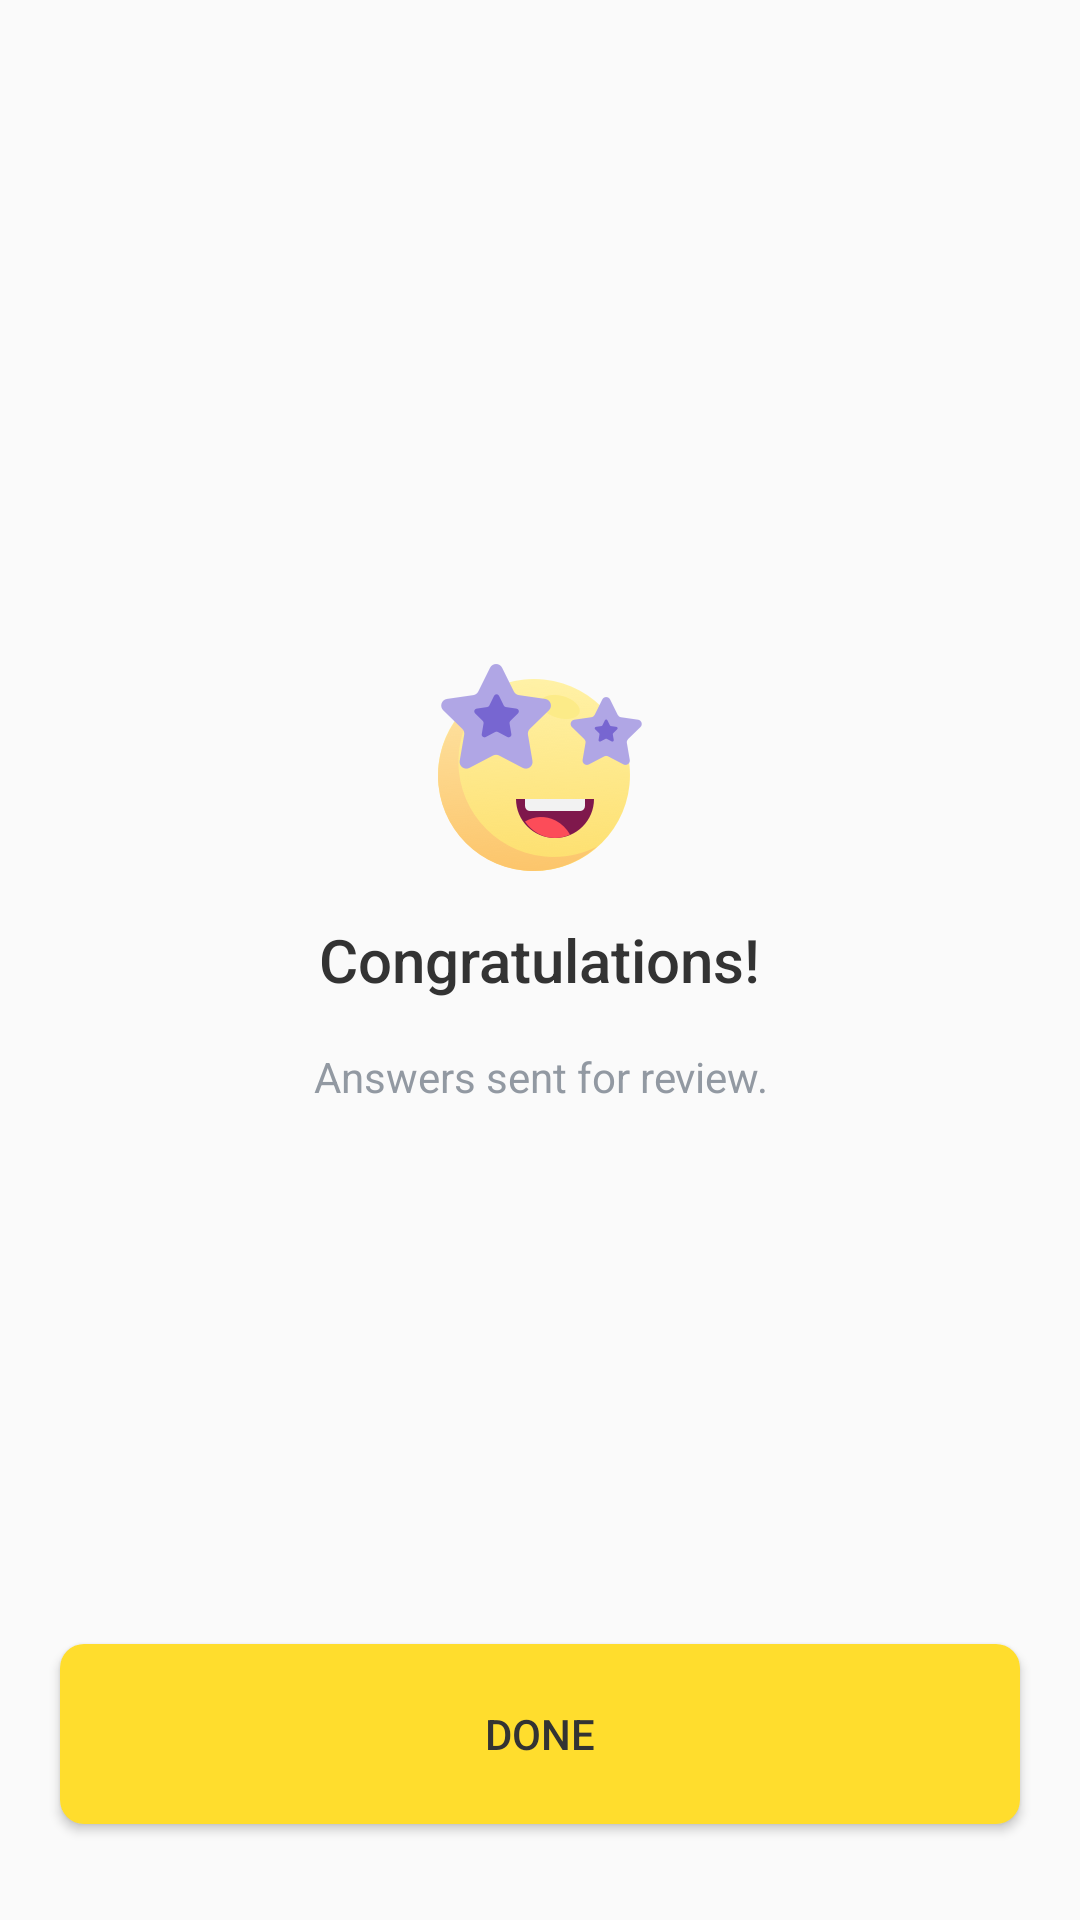

Icon click points for this 1080px×1920px phone screenshot, format (x,y):
smiling: (540,767)
